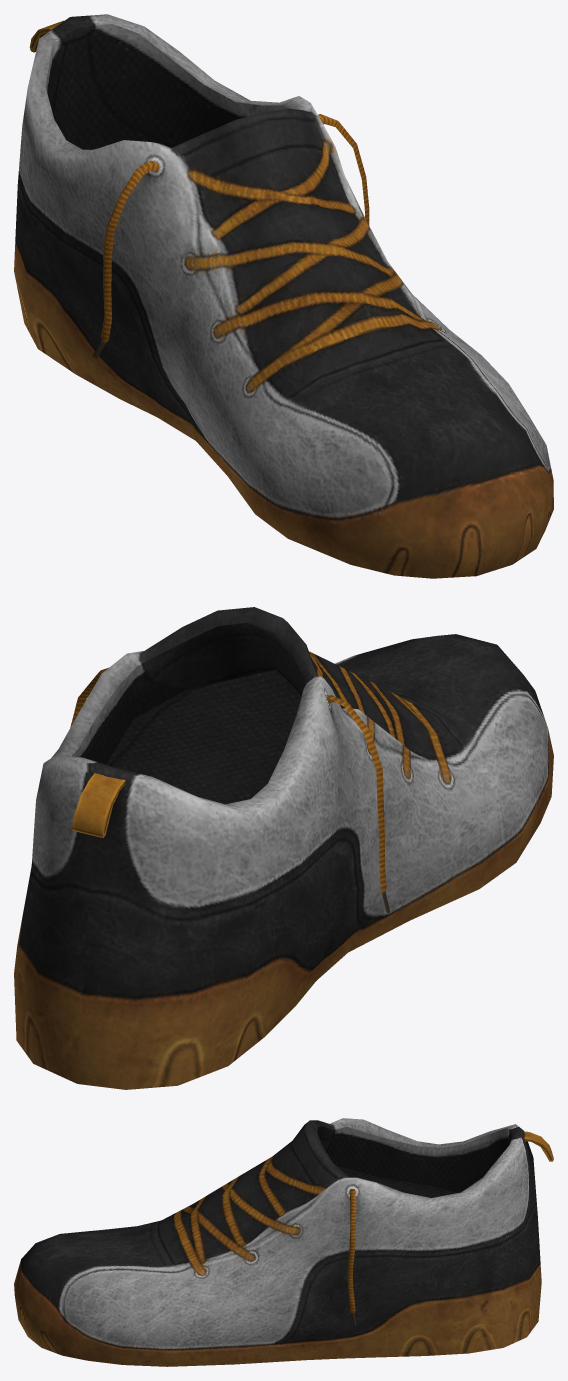
The model's file is shoe_left.DAE.
3 views of the same model, one above another, from view 1: azimuth 30°, elevation 25°; view 2: azimuth 150°, elevation 25°; view 3: azimuth 270°, elevation 25° (orthographic). The views are drawn at different scales.
Visible parts, largest first — view 1: shoe_left; view 2: shoe_left; view 3: shoe_left.
Boxes of the visible parts, x1,y1,x2,y2 form: shoe_left: [14, 14, 553, 578]; shoe_left: [14, 607, 553, 1089]; shoe_left: [14, 1118, 553, 1366].
Bounding box in the file's own units: 0.1462 × 0.1448 × 0.357.
